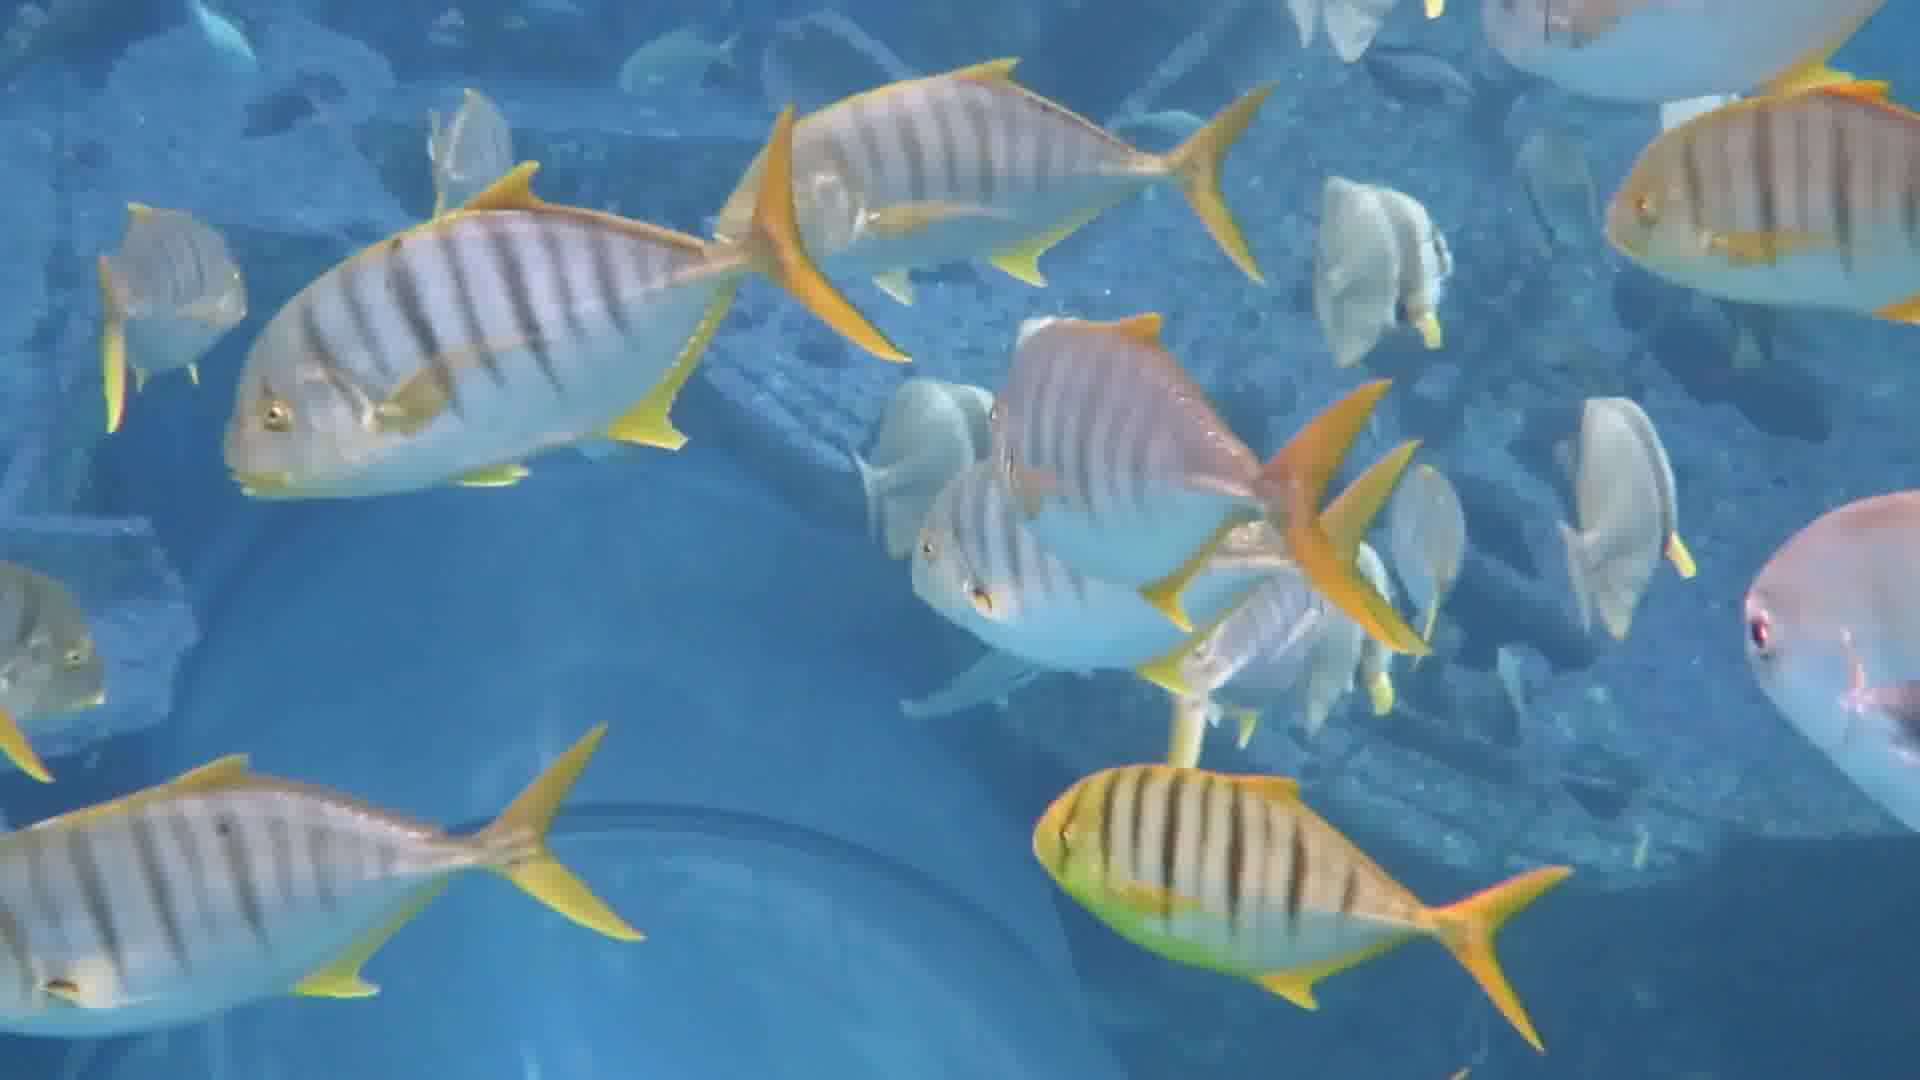Gnathanodon speciosus: (218, 156, 855, 513), (13, 760, 611, 1026), (984, 732, 1507, 1021), (764, 61, 1287, 281), (971, 338, 1348, 603), (1622, 71, 1920, 310)
